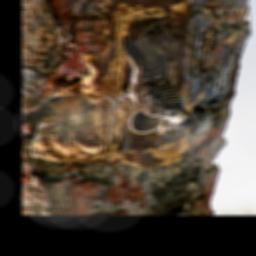Woodpecker: (105, 36, 195, 133)
